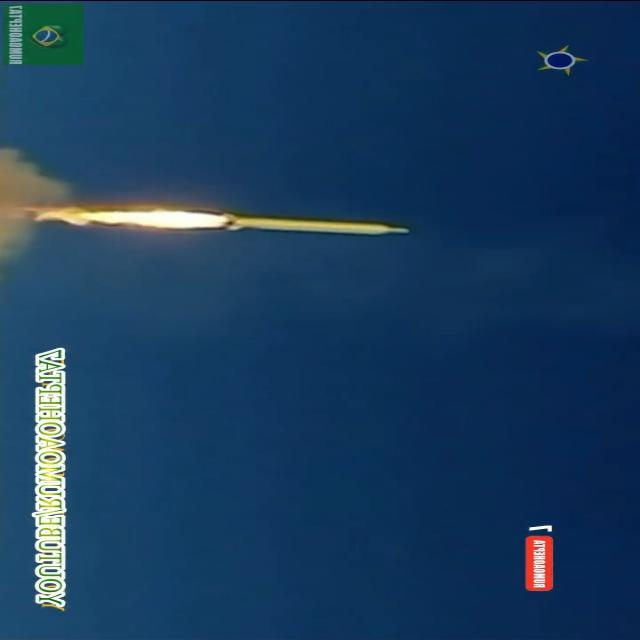Missile: (214, 212, 416, 234)
